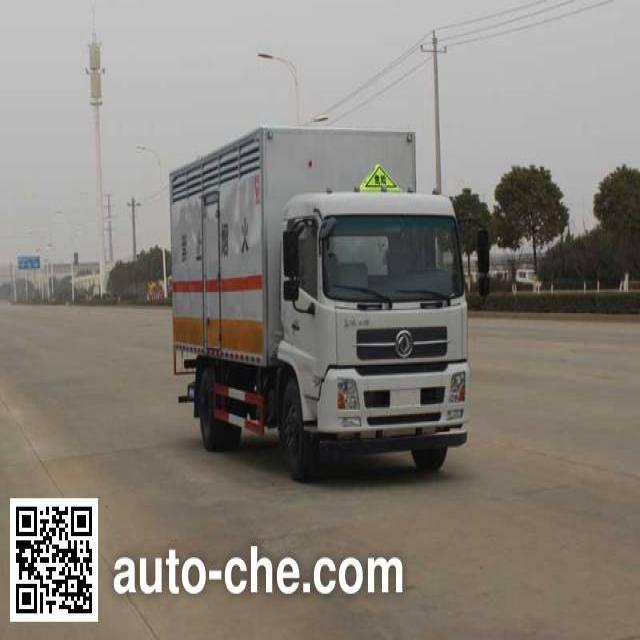overloaded: (166, 122, 487, 482)
